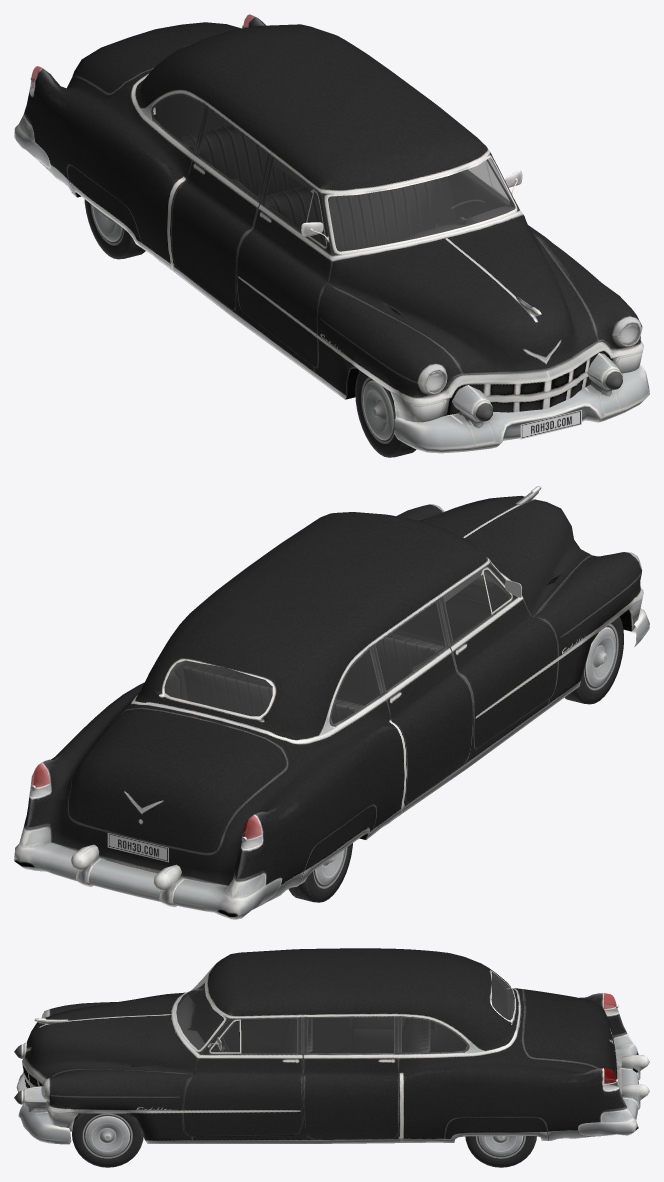
File: car_cadillac.glb
3 views of the same model, one above another, from view 1: azimuth 30°, elevation 25°; view 2: azimuth 150°, elevation 25°; view 3: azimuth 270°, elevation 25° (orthographic). The views are drawn at different scales.
Visible parts, largest first — view 1: Object_2, Object_3, Object_4; view 2: Object_2, Object_3, Object_4; view 3: Object_2, Object_3, Object_4.
Part boxes in pixels (left/top/right/bottom): Object_2: left=14, top=16, right=649, bottom=453; Object_3: left=84, top=95, right=515, bottom=457; Object_4: left=30, top=14, right=639, bottom=392; Object_2: left=14, top=486, right=649, bottom=919; Object_3: left=164, top=569, right=623, bottom=902; Object_4: left=29, top=561, right=511, bottom=848; Object_2: left=14, top=948, right=649, bottom=1144; Object_3: left=72, top=975, right=536, bottom=1167; Object_4: left=41, top=968, right=618, bottom=1097.
Size of the model in its own units: 195 by 169 by 596.
3 materials, 3 textured.
